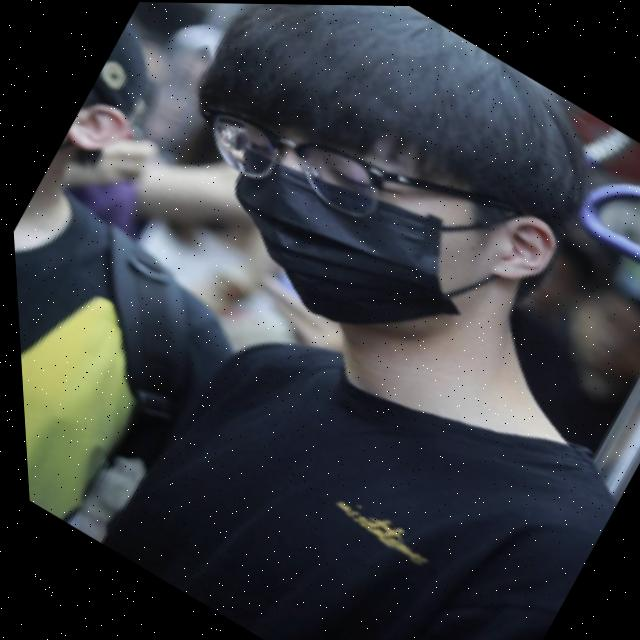Mask: (181, 60, 575, 406)
